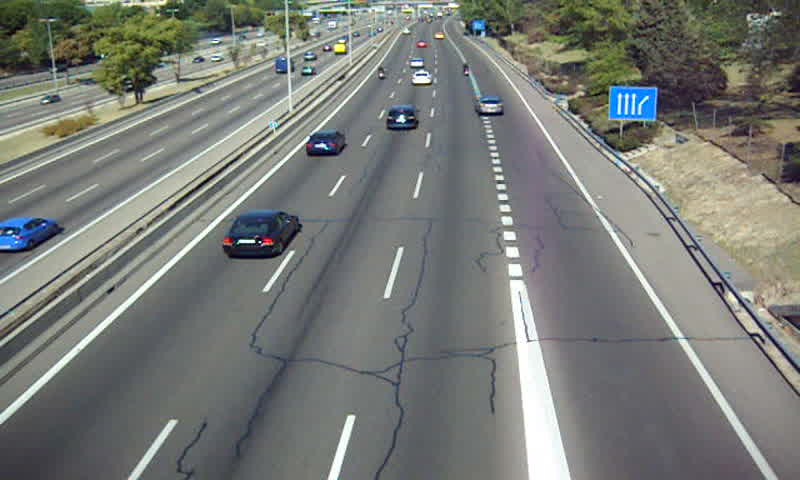car: (221, 210, 300, 256), (304, 130, 345, 156), (385, 104, 420, 132), (474, 98, 505, 117), (410, 70, 431, 87)
motorcycle: (462, 62, 473, 79), (378, 64, 387, 81)
